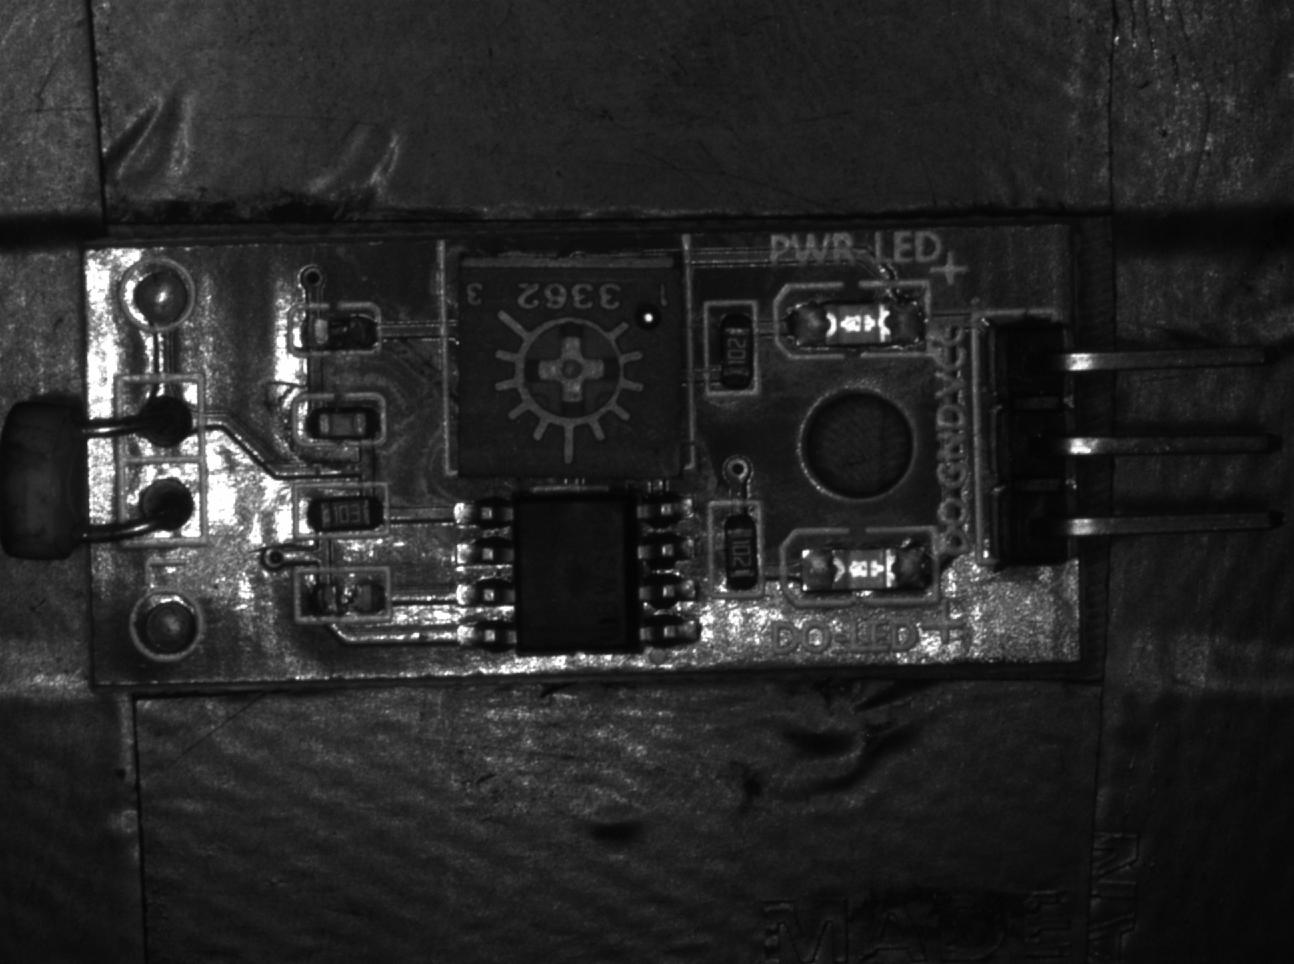miss: (295, 564, 393, 625), (284, 305, 385, 359)
ok: (295, 485, 393, 541), (710, 501, 763, 601), (708, 300, 760, 395), (295, 398, 391, 445)
